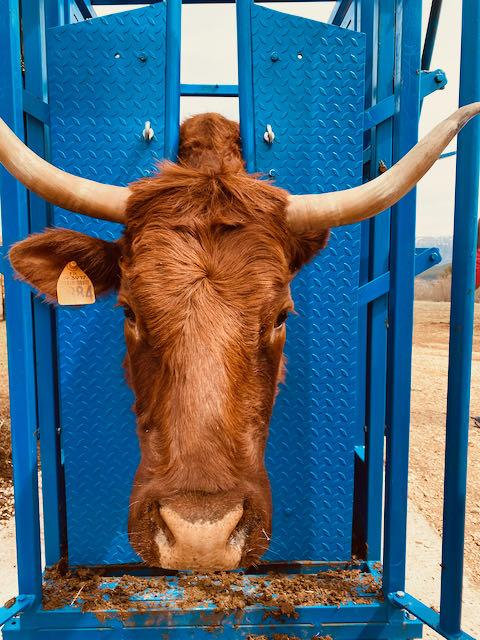muzzles: (120, 484, 276, 577)
